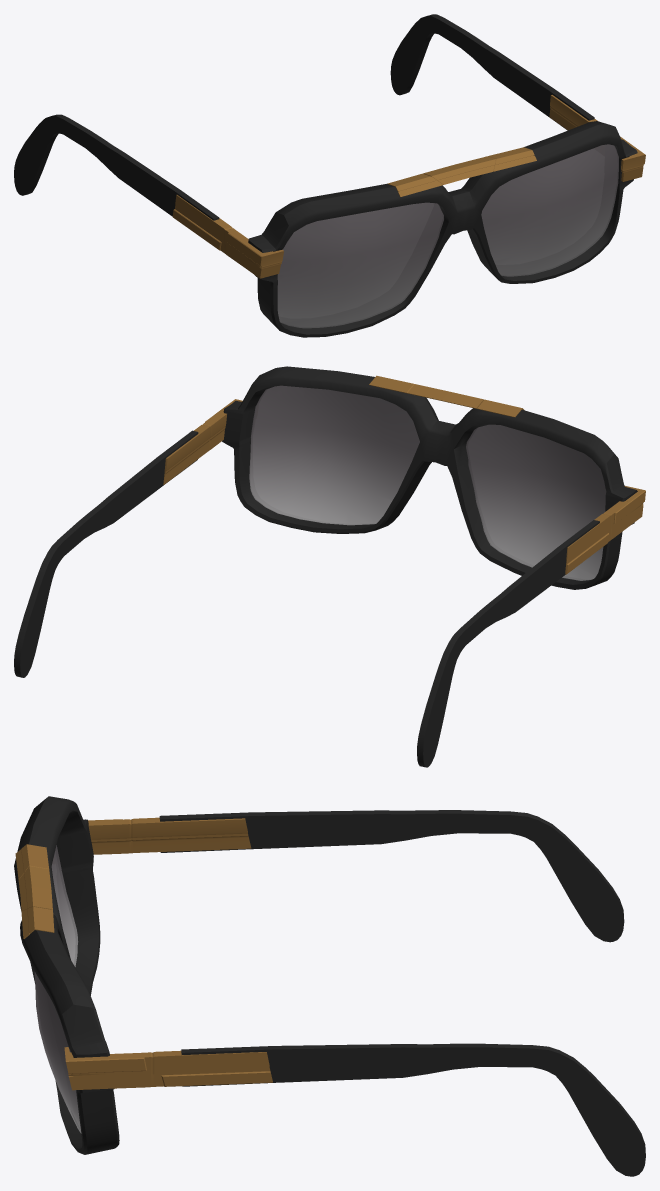
The model's file is glass_3-3.glb.
The picture shows the model from 3 angles, top to bottom: view 1: azimuth 30°, elevation 25°; view 2: azimuth 150°, elevation 25°; view 3: azimuth 270°, elevation 25°; orthographic projection. The views are drawn at different scales.
Parts seen in each view (by area): view 1: Lens_3_11, Temples_1_6, Frame_0_4, Bridge_2_9; view 2: Lens_3_11, Frame_0_4, Temples_1_6, Bridge_2_9; view 3: Temples_1_6, Frame_0_4, Lens_3_11, Bridge_2_9.
Boxes of the visible parts, <box> form: Lens_3_11: <box>277,144,618,328</box>; Temples_1_6: <box>14,14,645,278</box>; Frame_0_4: <box>248,121,637,337</box>; Bridge_2_9: <box>387,147,536,197</box>; Lens_3_11: <box>249,385,606,580</box>; Frame_0_4: <box>222,366,637,589</box>; Temples_1_6: <box>14,399,645,767</box>; Bridge_2_9: <box>369,375,524,417</box>; Temples_1_6: <box>64,810,645,1176</box>; Frame_0_4: <box>14,796,119,1154</box>; Lens_3_11: <box>34,845,81,1133</box>; Bridge_2_9: <box>15,844,54,938</box>.
Bounding box in the file's own units: 66.9 × 23.15 × 71.99.
Materials: 3 (1 with a texture image).
